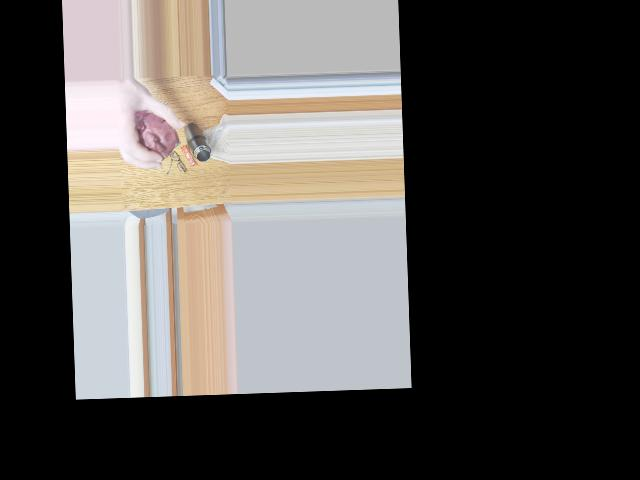onion: (135, 109, 169, 154)
